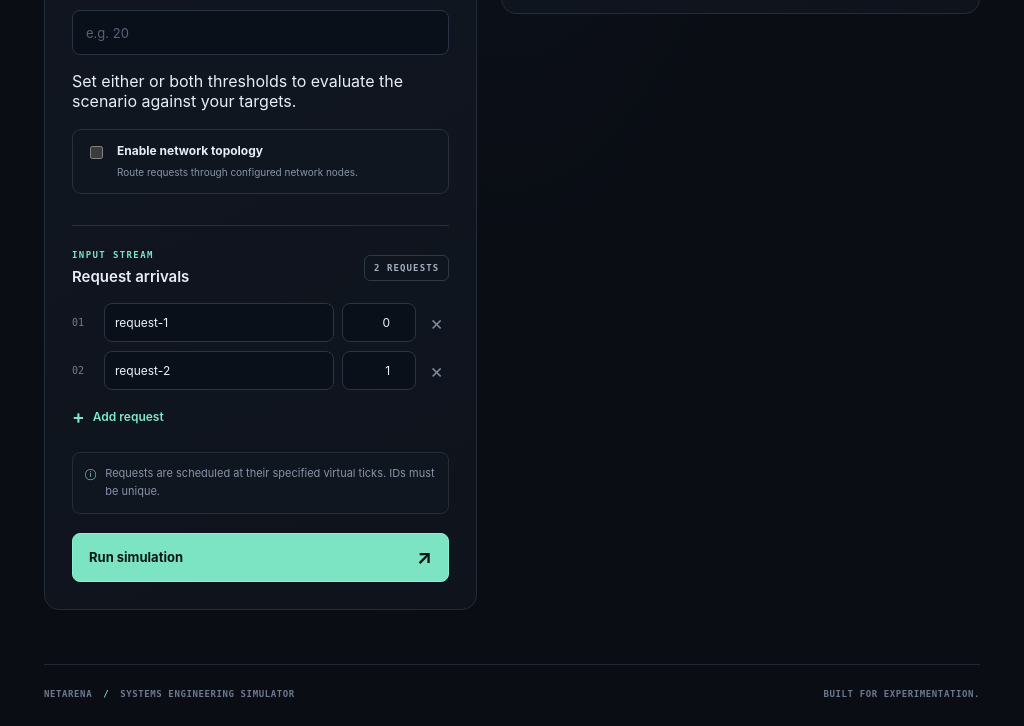
Test: NetArena dashboard › shows an API error and permits a retry
(page scrolled)
What coordinates should you click on to do the following:
click the button "Run simulation ↗"
I would click on:
 (136, 557)
Its box is [72,533,449,582].
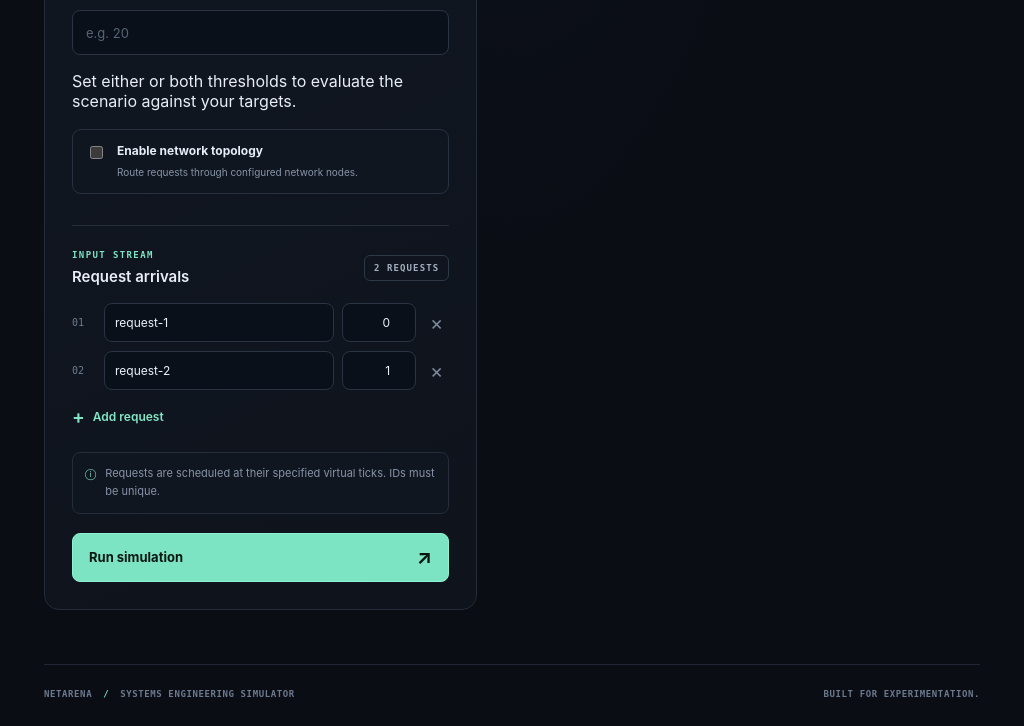
What coordinates should you click on to do the following:
click the button "Run simulation ↗"
I would click on:
 (136, 557)
Its box is [72,533,449,582].
(page scrolled)
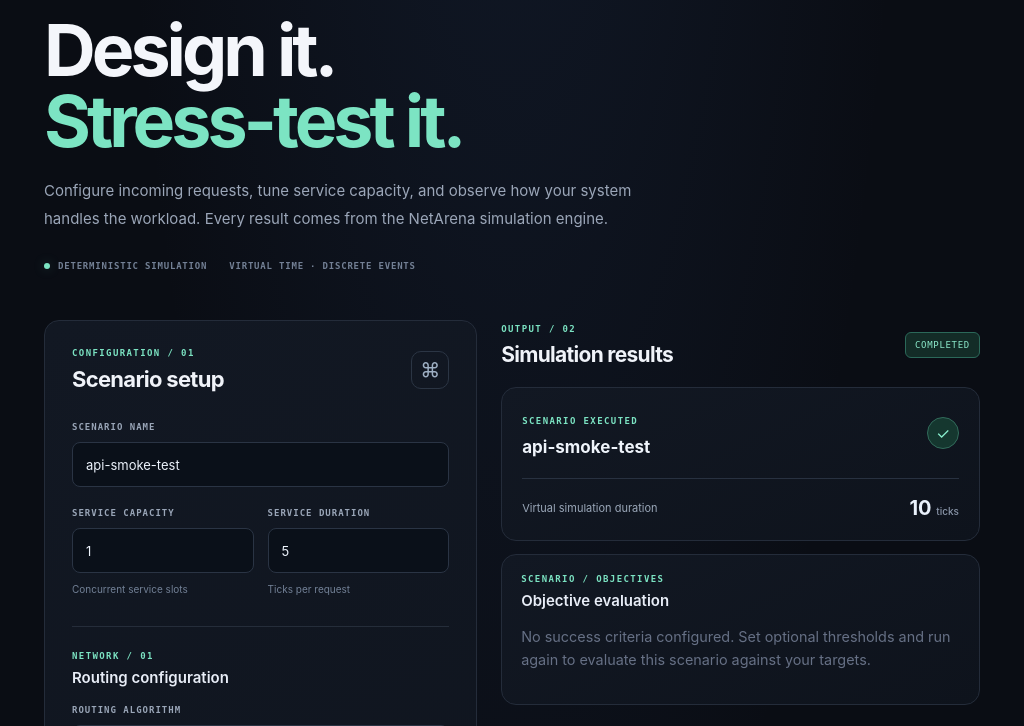
Result: the text "COMPLETED" is shown at [905,332,980,358]
